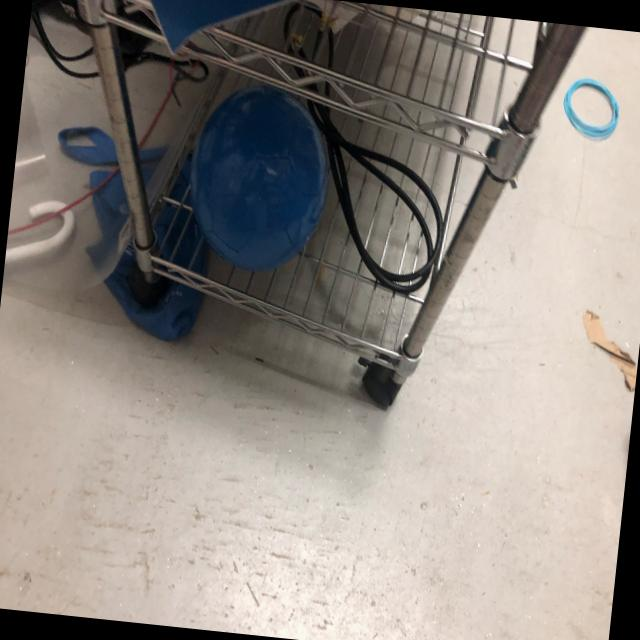blue_ball: (176, 80, 341, 282)
